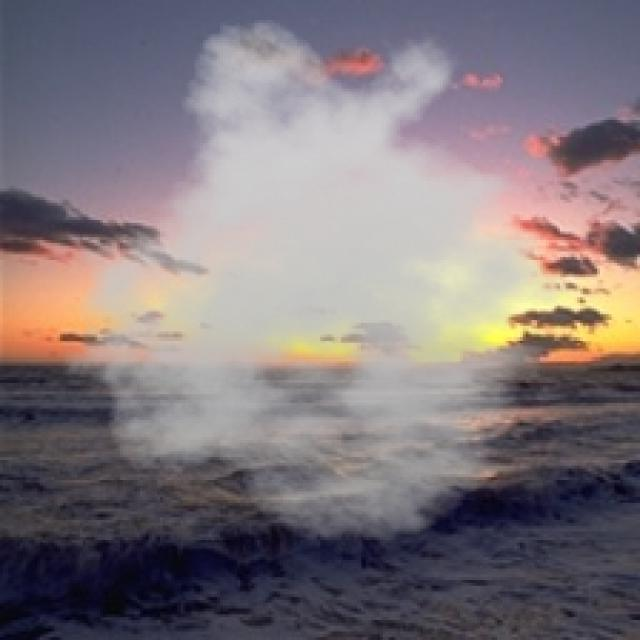Smoke: (48, 17, 603, 543)
